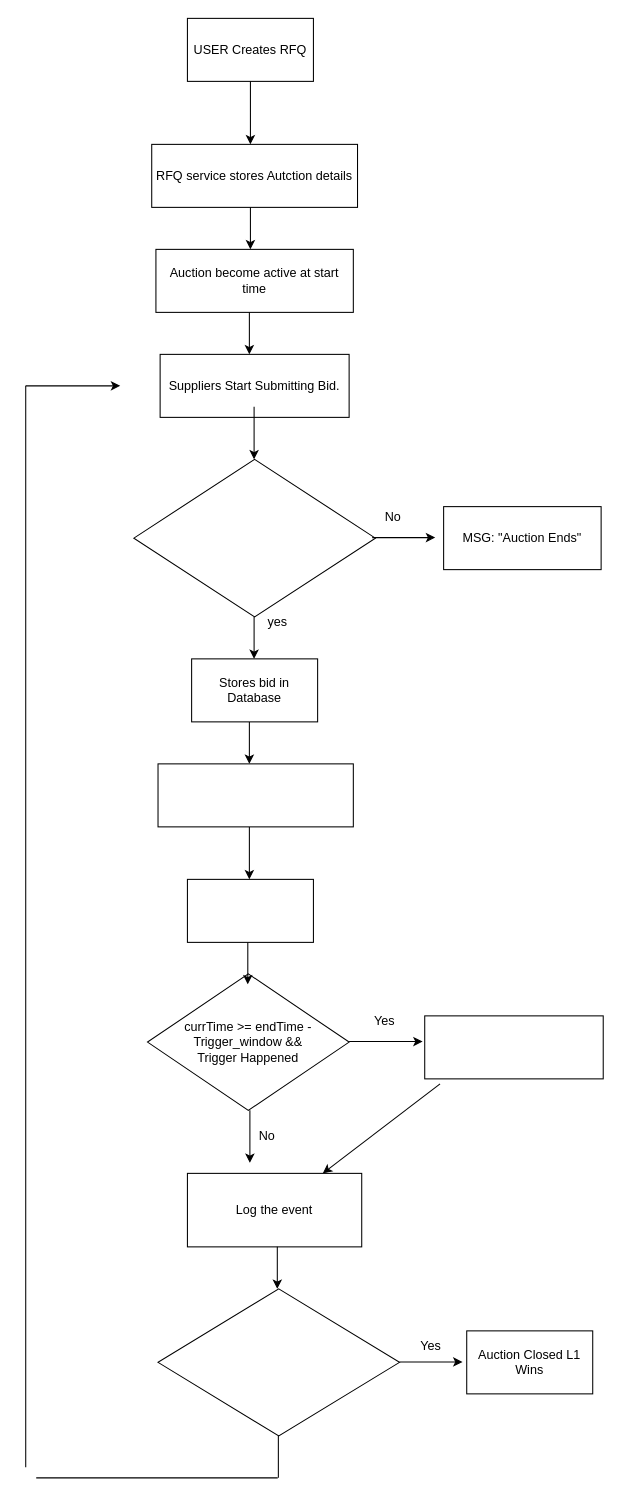
Some shapes in this 622 by 1497 pixel diagram are drawn without their labels. The shapes that lost their labels are listed below. From the top down, each one's box as (x1, y1, x2, y2) in pixels, then its label:
(133, 458, 375, 617): isActive == True && currTime < endTime && currTime < FCloseTIme
(157, 763, 353, 827): Ranking Services creates Rank
(186, 878, 313, 942): Auction Engine Triggers
(424, 1015, 603, 1079): endTime = min(endTime + Y , ForcedCloseTime)
(157, 1288, 400, 1436): currTime >= endTime OR currTime >= ForceCloseTIme
